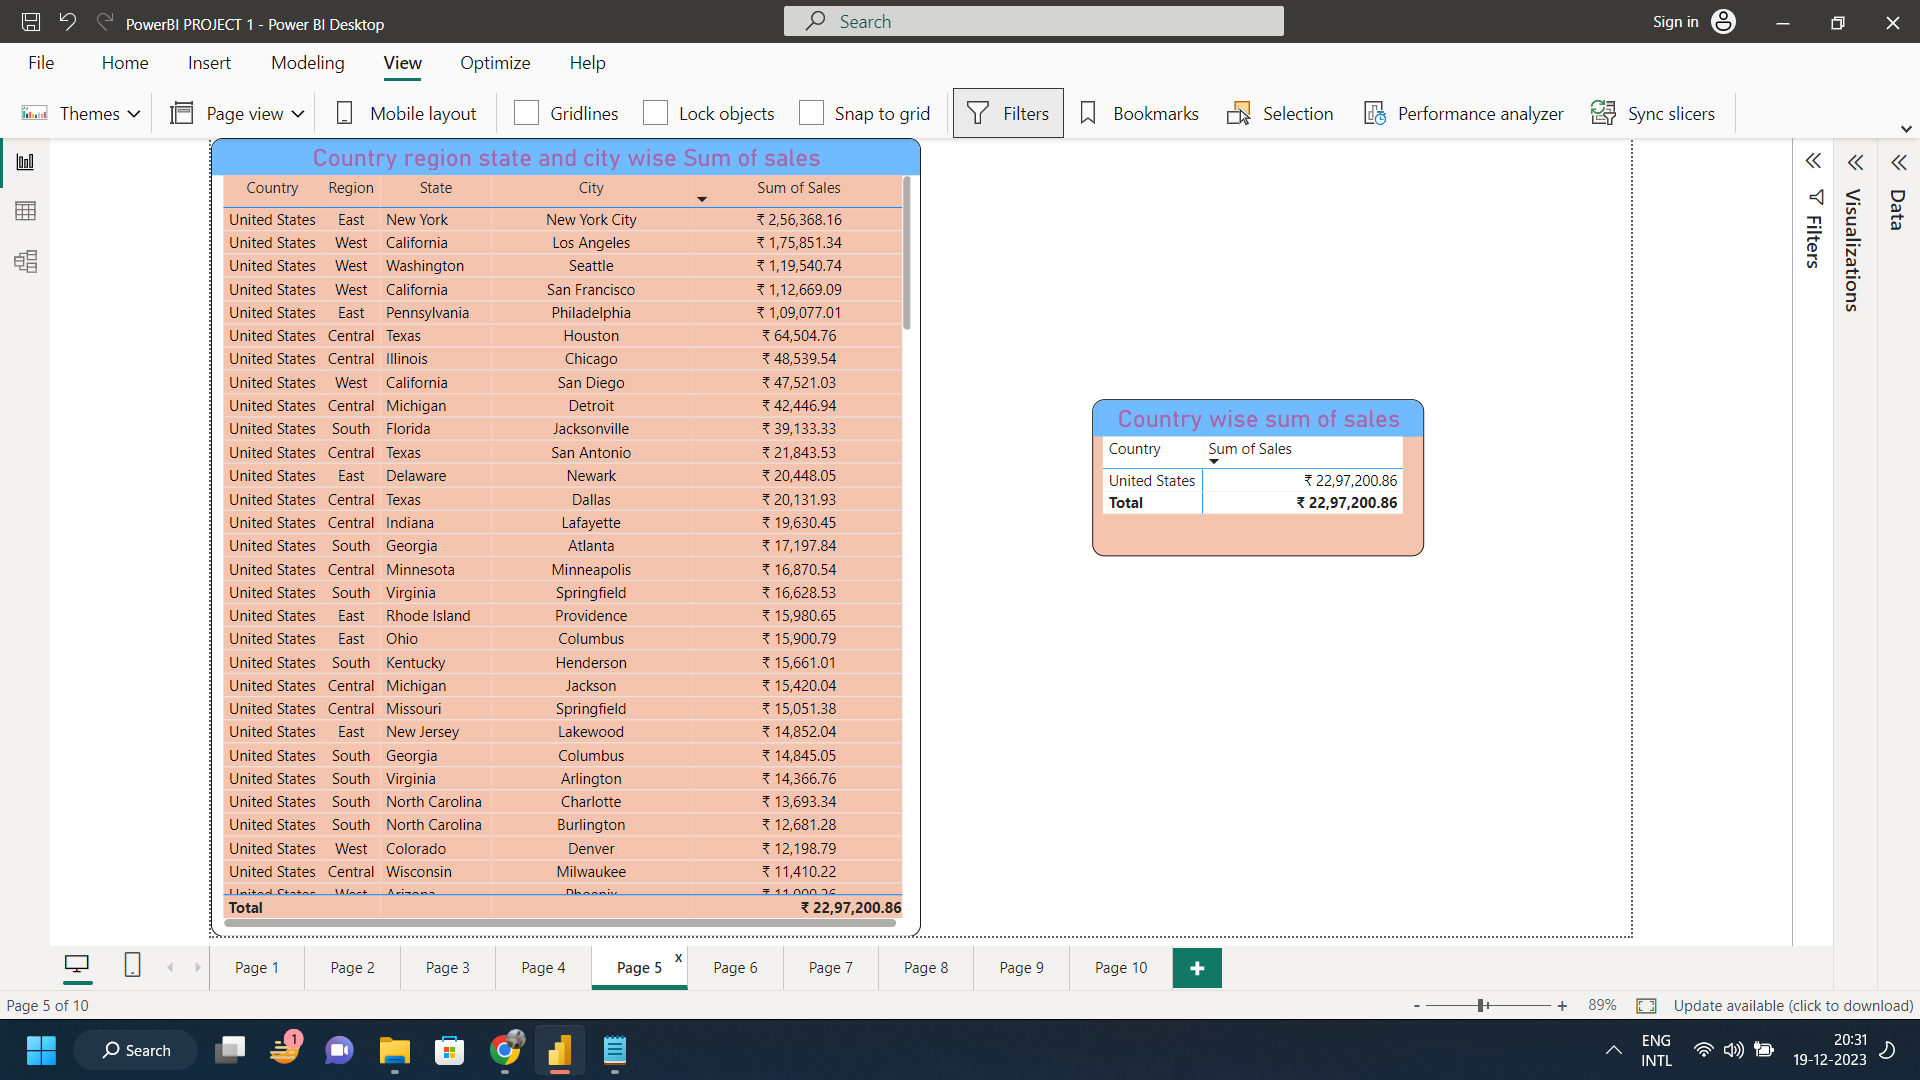

This screenshot's page, from the dashboard's own definition file:
{"tool":"powerbi","page":{"name":"Page 5","canvas":[1280,720],"ordinal":4},"visuals":[{"type":"tableEx","title":"Country region state and city wise Sum of sales","fields":{"Values":["Orders.Country","Orders.Region","Orders.State","Orders.City","Sum(Orders.Sales)"]},"box":[0,0,640,720],"z":0},{"type":"pivotTable","title":"Country wise sum of sales","fields":{"Rows":["Orders.Country"],"Values":["Sum(Orders.Sales)"]},"box":[794.6,235.9,299.5,141.8],"z":1000}]}

Visuals, with their boxes on the page's 1280x720 design canvas (x1, y1, x2, y2). These are canvas units, not pixel positions in the 1920x1080 screenshot, which may show the page scaled, cropped or inside an application window:
"Country region state and city wise Sum of sales" tableEx: 0/0/640/720
"Country wise sum of sales" pivotTable: 795/236/1094/378
